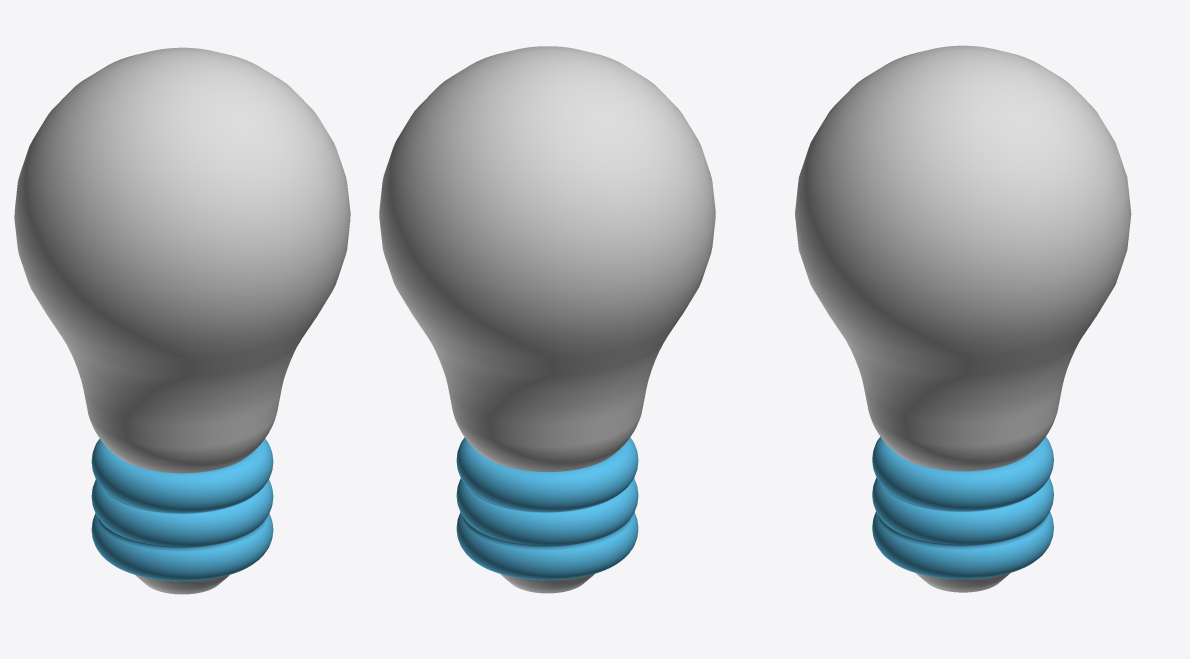
File: sharedCreativity.glb
The picture shows the model from 3 angles, left to right: view 1: azimuth 30°, elevation 25°; view 2: azimuth 150°, elevation 25°; view 3: azimuth 270°, elevation 25°; orthographic projection.
Parts seen in each view (by area): view 1: bulb/glass, bottom/color, bottom-bulb/glass; view 2: bulb/glass, bottom/color, bottom-bulb/glass; view 3: bulb/glass, bottom/color, bottom-bulb/glass.
Part boxes in pixels (<box>): bulb/glass: <box>14,47,350,473</box>; bottom/color: <box>91,438,273,581</box>; bottom-bulb/glass: <box>135,575,229,594</box>; bulb/glass: <box>379,46,715,471</box>; bottom/color: <box>456,437,638,580</box>; bottom-bulb/glass: <box>500,574,594,593</box>; bulb/glass: <box>795,45,1131,471</box>; bottom/color: <box>872,436,1053,579</box>; bottom-bulb/glass: <box>916,573,1010,592</box>.
Size of the model in its own units: 0.8052 by 1.66 by 1.03.
